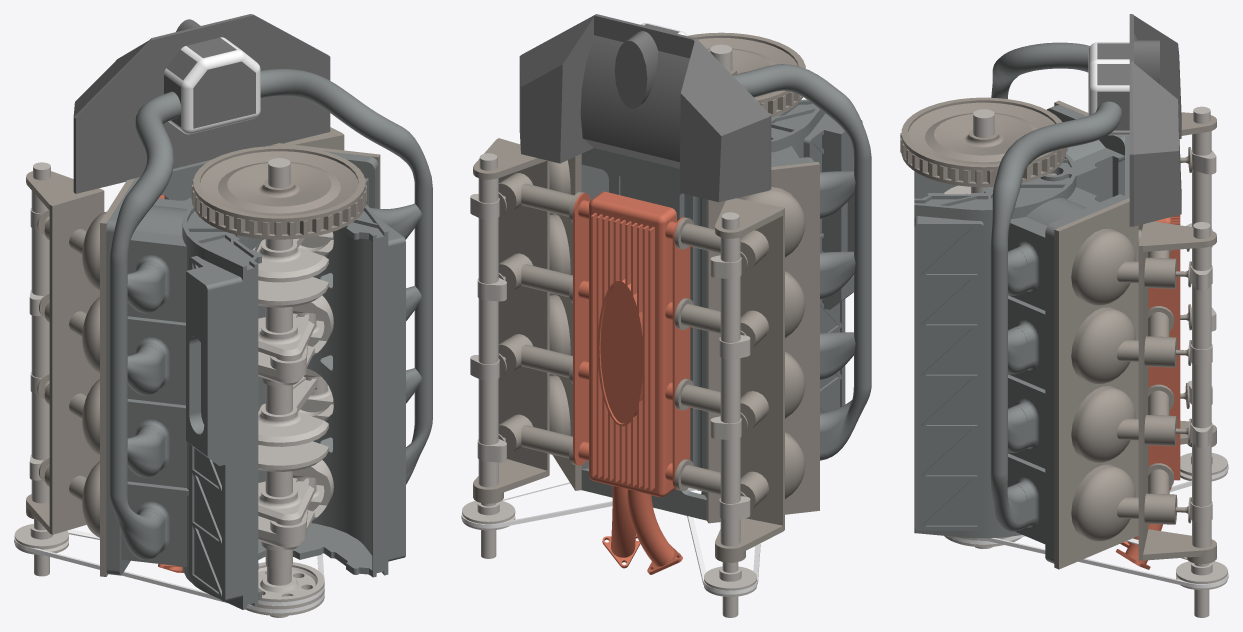
File: fadongji.fbx
The picture shows the model from 3 angles, left to right: view 1: azimuth 30°, elevation 25°; view 2: azimuth 150°, elevation 25°; view 3: azimuth 270°, elevation 25°; orthographic projection. The views are drawn at different scales.
Parts seen in each view (by area): view 1: Ô²½Ç7, ×éºÏ1, Í¹Ì¨-ÀÉì11, µ¹½Ç1 (×2), ÕóÁÐ(Ô²ÖÜ)1, Í¹Ì¨-ÀÉì4, Ô²½Ç2 (×5), Ô²½Ç1 (×3), É¨Ãè1, Í¹Ì¨-ÀÉì12, Ðý×ª1; view 2: ×éºÏ1, Í¹Ì¨-ÀÉì11, ¾µÏò3, Í¹Ì¨-ÀÉì12, Ô²½Ç7, Í¹Ì¨-ÀÉì4 (×2), ÕóÁÐ(Ô²ÖÜ)1, Ðý×ª1 (×2), É¨Ãè1 (×2); view 3: Ô²½Ç7, Í¹Ì¨-ÀÉì12, ×éºÏ1, ÕóÁÐ(Ô²ÖÜ)1, Í¹Ì¨-ÀÉì4 (×2), ¾µÏò3, Ðý×ª1 (×2), É¨Ãè1 (×2), Í¹Ì¨-ÀÉì11, µ¹½Ç1.
Boxes of the visible parts, <box> form: Ô²½Ç7: <box>106,145,405,609</box>; ×éºÏ1: <box>73,14,432,559</box>; Í¹Ì¨-ÀÉì11: <box>26,171,134,576</box>; µ¹½Ç1 (×2): <box>245,158,328,617</box>; ÕóÁÐ(Ô²ÖÜ)1: <box>191,146,366,239</box>; Í¹Ì¨-ÀÉì4: <box>29,162,50,576</box>; Ô²½Ç2 (×5): <box>258,312,327,544</box>; Ô²½Ç1 (×3): <box>265,295,333,519</box>; É¨Ãè1: <box>14,529,324,613</box>; Í¹Ì¨-ÀÉì12: <box>271,127,380,208</box>; Ðý×ª1: <box>14,524,68,554</box>; ×éºÏ1: <box>519,14,871,460</box>; Í¹Ì¨-ÀÉì11: <box>674,162,819,562</box>; ¾µÏò3: <box>573,191,690,574</box>; Í¹Ì¨-ÀÉì12: <box>473,138,584,503</box>; Ô²½Ç7: <box>581,99,862,520</box>; Í¹Ì¨-ÀÉì4 (×2): <box>470,153,750,617</box>; ÕóÁÐ(Ô²ÖÜ)1: <box>688,32,805,117</box>; Ðý×ª1 (×2): <box>462,501,756,596</box>; É¨Ãè1 (×2): <box>461,479,760,594</box>; Ô²½Ç7: <box>914,104,1129,563</box>; Í¹Ì¨-ÀÉì12: <box>1054,198,1216,569</box>; ×éºÏ1: <box>990,14,1181,531</box>; ÕóÁÐ(Ô²ÖÜ)1: <box>900,97,1067,187</box>; Í¹Ì¨-ÀÉì4 (×2): <box>1187,106,1216,617</box>; ¾µÏò3: <box>1116,215,1180,569</box>; Ðý×ª1 (×2): <box>1176,452,1227,590</box>; É¨Ãè1 (×2): <box>948,463,1228,588</box>; Í¹Ì¨-ÀÉì11: <box>1054,100,1216,446</box>; µ¹½Ç1: <box>943,109,994,548</box>.
Bounding box in the file's own units: 32.17 × 52.62 × 29.82.
